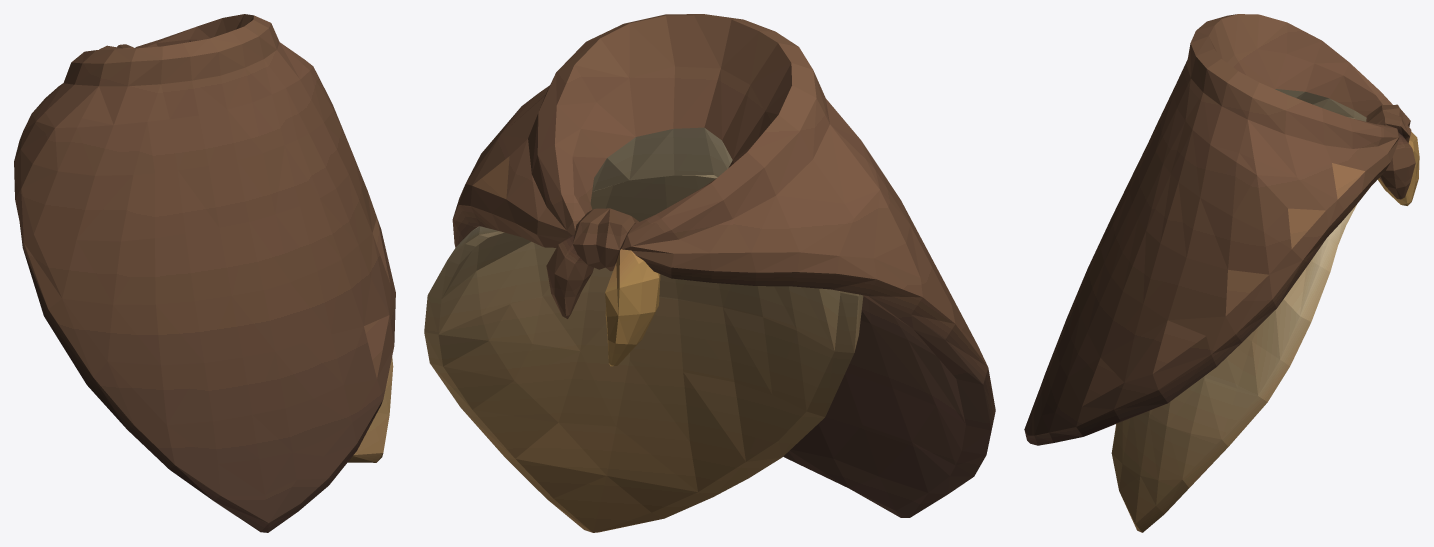
The model's file is CharSkyKid_Wing_AP17TiedShawl.glb.
The picture shows the model from 3 angles, left to right: view 1: azimuth 30°, elevation 25°; view 2: azimuth 150°, elevation 25°; view 3: azimuth 270°, elevation 25°; orthographic projection. The views are drawn at different scales.
Visible parts, largest first — view 1: CharSkyKid_Wing_AP17TiedShawl; view 2: CharSkyKid_Wing_AP17TiedShawl; view 3: CharSkyKid_Wing_AP17TiedShawl.
Boxes of the visible parts, x1,y1,x2,y2 form: CharSkyKid_Wing_AP17TiedShawl: [14, 14, 395, 532]; CharSkyKid_Wing_AP17TiedShawl: [424, 14, 995, 532]; CharSkyKid_Wing_AP17TiedShawl: [1024, 14, 1419, 532].
Size of the model in its own units: 4.87 by 5.52 by 4.59.
1 material, 1 textured.
